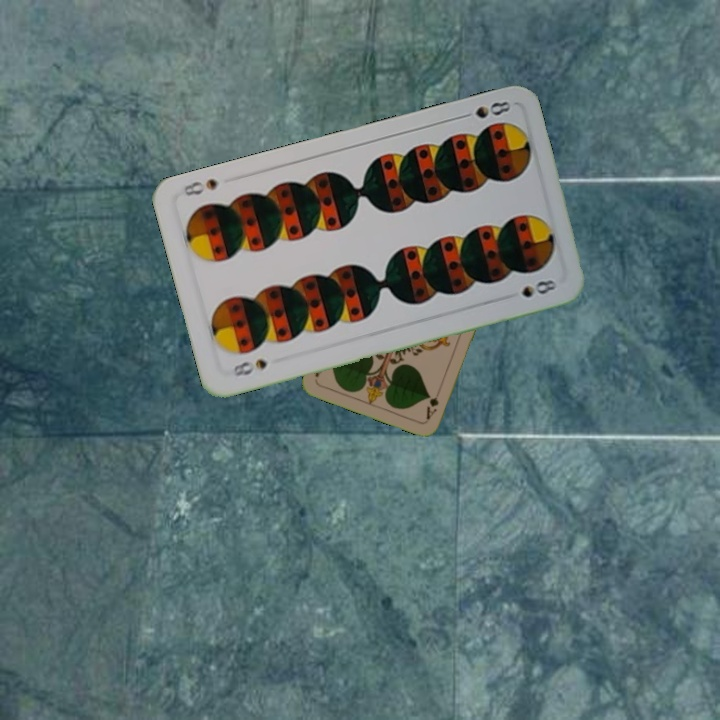GA: (422, 383, 444, 422)
S8: (455, 97, 514, 122), (223, 355, 270, 379)
